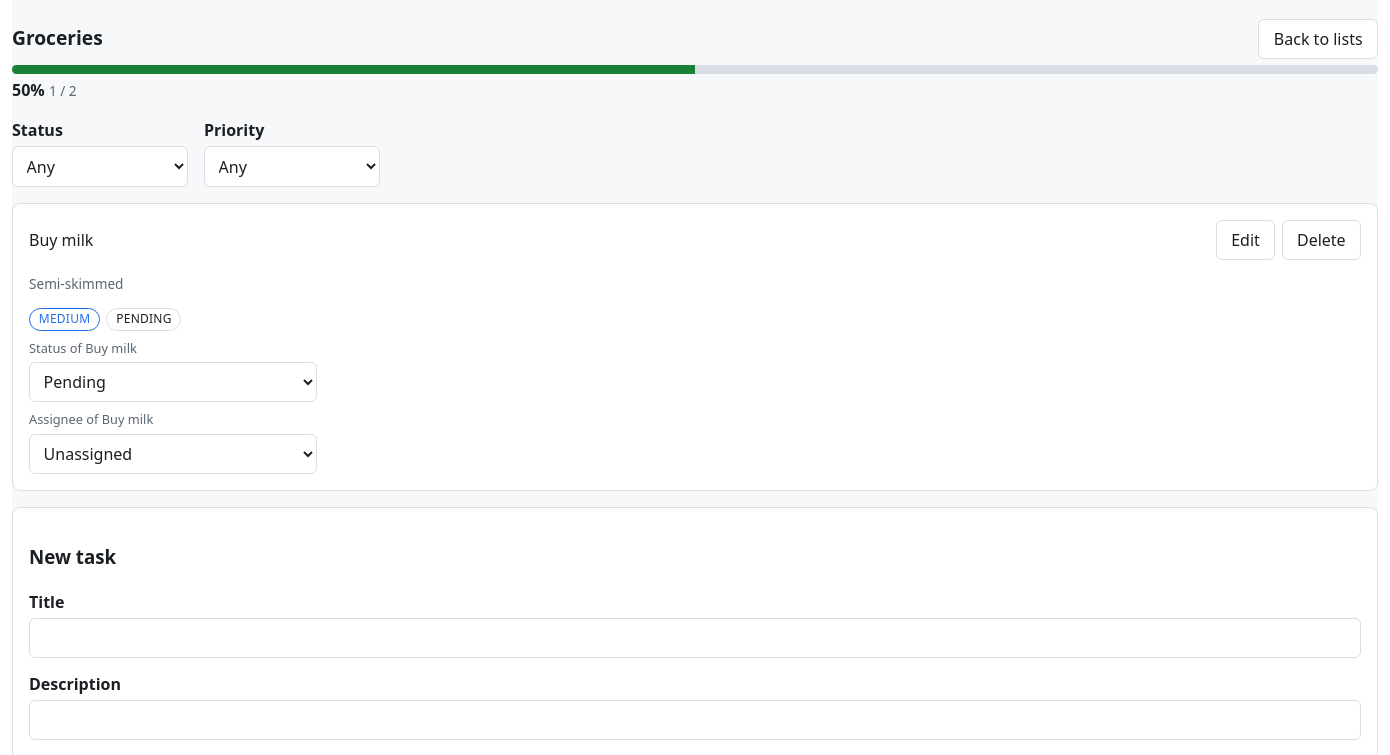
it: changing a status › renders the API's own sentence when it refuses the move anyway
The width and height of the screenshot is (1390, 755).
Step 1. Select "Completed" in the dropdown labelled "Status of Buy milk" → [173, 382], box [29, 362, 317, 402]
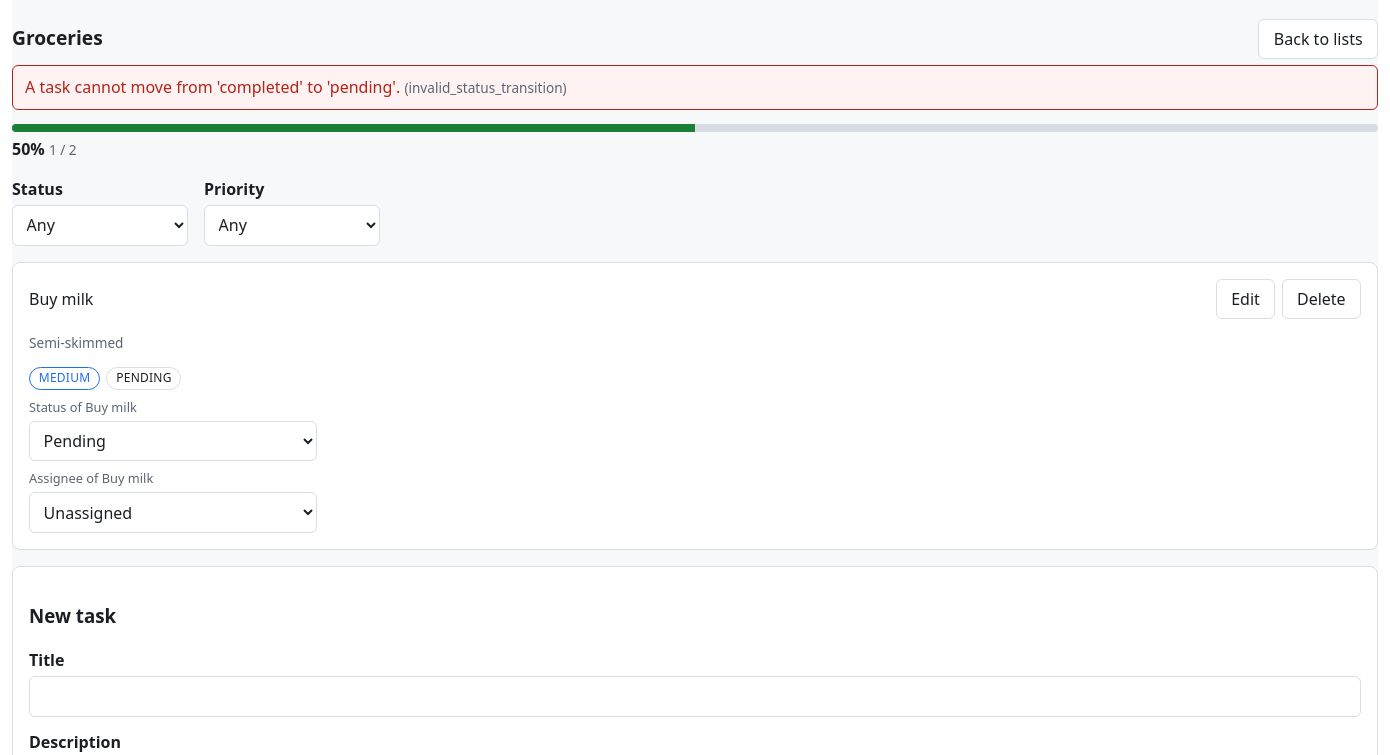
Expected: the message shows "A task cannot move from 'completed' to 'pending'.", [25, 76, 400, 98]
Expected: the message shows "invalid_status_transition", [408, 78, 563, 97]
